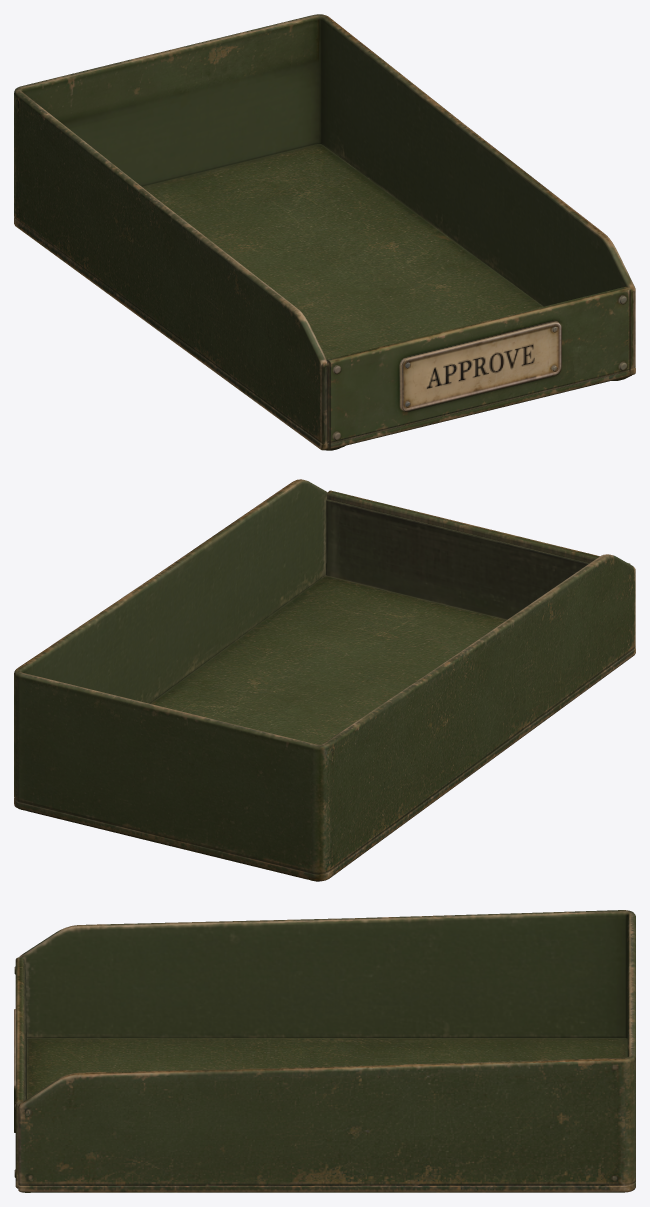
File: approve.fbx
The picture shows the model from 3 angles, top to bottom: view 1: azimuth 30°, elevation 25°; view 2: azimuth 150°, elevation 25°; view 3: azimuth 270°, elevation 25°; orthographic projection.
Parts seen in each view (by area): view 1: tripo_11522409_4901_4eb2_af0d_6503d317857a; view 2: tripo_11522409_4901_4eb2_af0d_6503d317857a; view 3: tripo_11522409_4901_4eb2_af0d_6503d317857a.
Part boxes in pixels (left/top/right/bottom): tripo_11522409_4901_4eb2_af0d_6503d317857a: left=14, top=14, right=635, bottom=450; tripo_11522409_4901_4eb2_af0d_6503d317857a: left=14, top=479, right=635, bottom=881; tripo_11522409_4901_4eb2_af0d_6503d317857a: left=14, top=910, right=635, bottom=1192.
Size of the model in its own units: 0.5757 by 0.2407 by 0.9995.
Materials: 1 (1 with a texture image).
